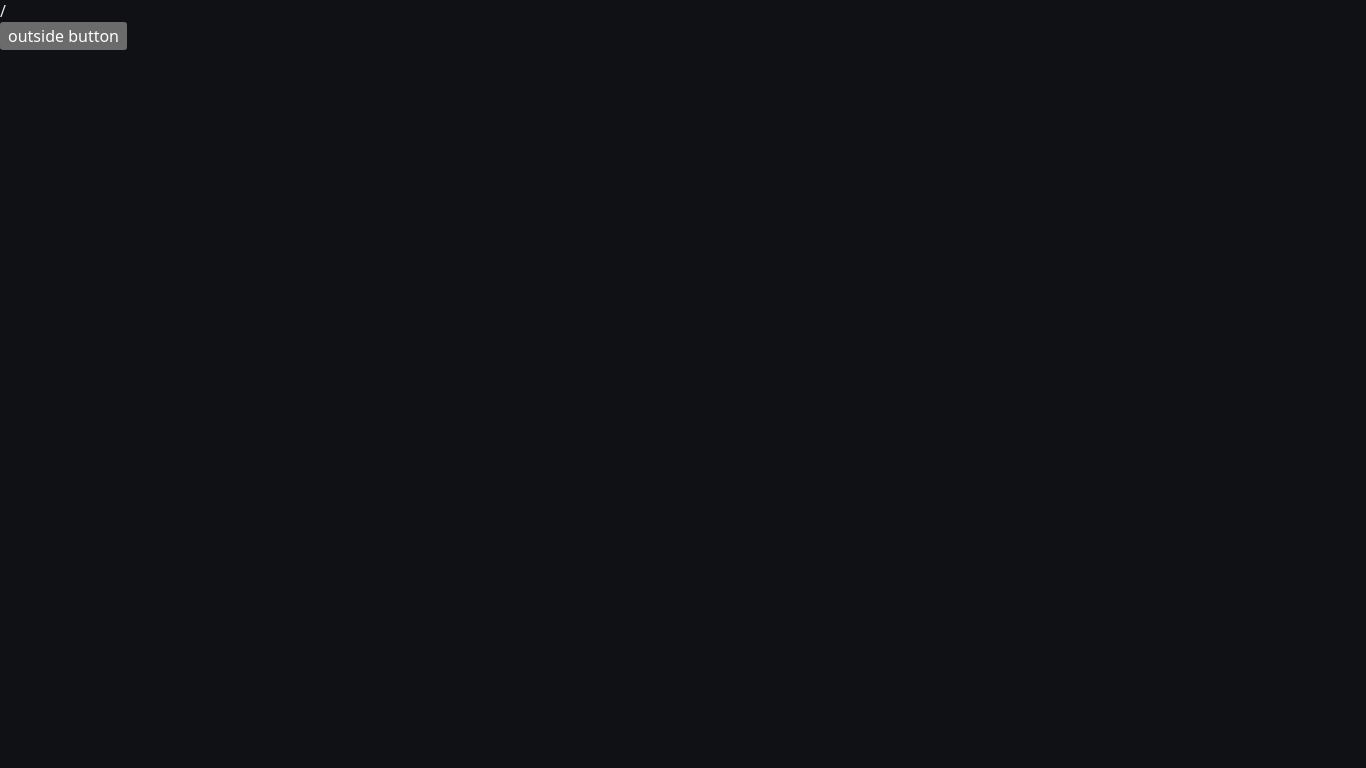
Test: CommandPalette › "Refresh prices" launches the POST, toasts both ends of the run, and lands on /portfolio
The width and height of the screenshot is (1366, 768).
Press k
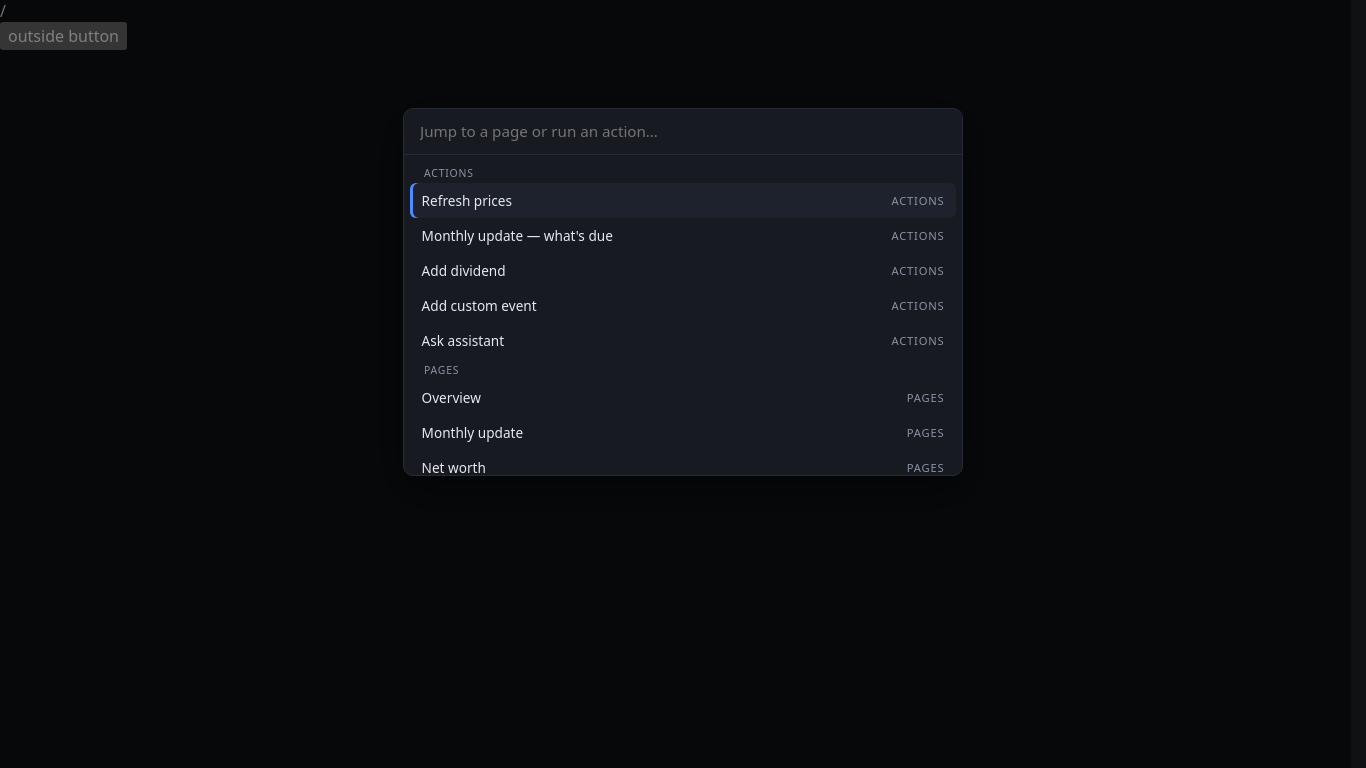
Type "refresh" into the dropdown at x=683, y=132, box [404, 108, 962, 155]
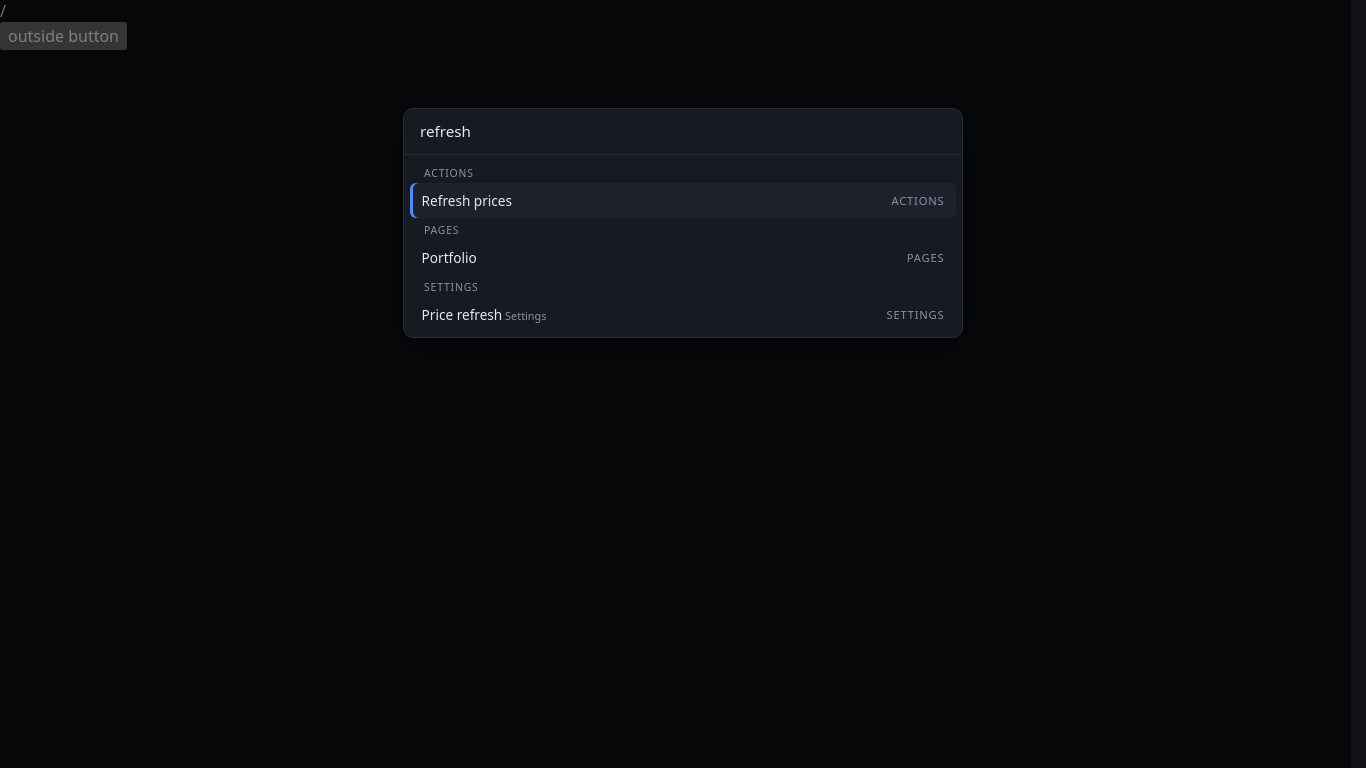
Press Enter in the dropdown, box [404, 108, 962, 155]
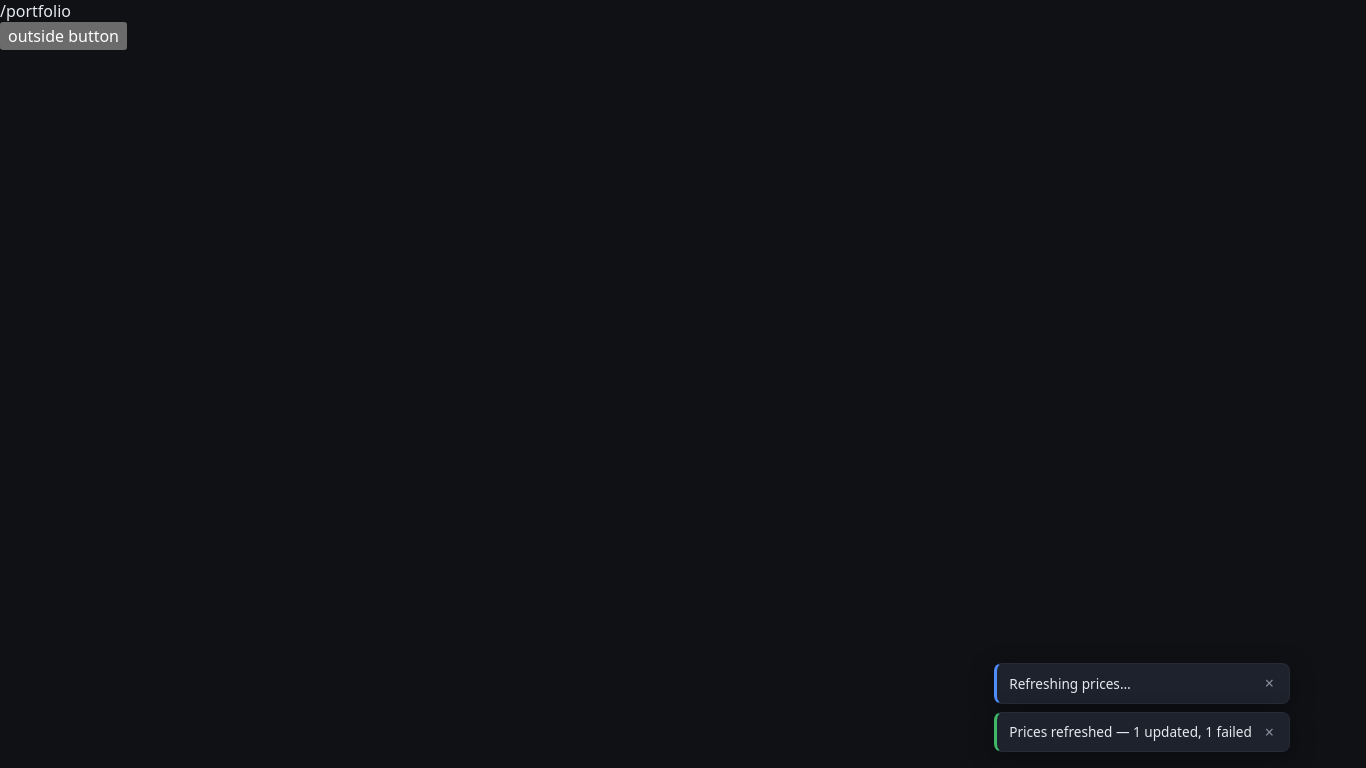
Expected: the text "Refreshing prices…" is shown, [1009, 674, 1131, 693]
Expected: the text with test id "pathname" reads "/portfolio", [0, 0, 71, 22]
Expected: the text "Prices refreshed — 1 updated, 1 failed" is shown, [1009, 722, 1252, 741]
